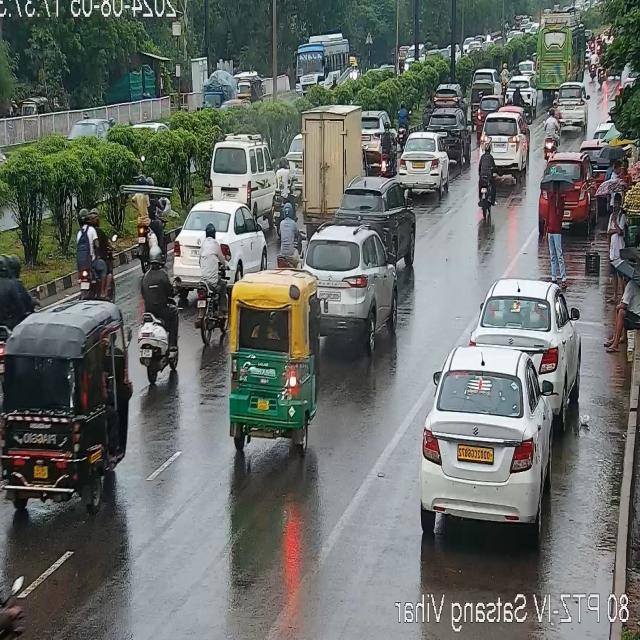2-wheelers: (135, 252, 179, 382), (0, 255, 39, 366), (74, 210, 112, 302), (470, 150, 502, 212), (544, 111, 562, 155)
auto: (0, 301, 127, 511), (226, 267, 316, 439)
bus: (532, 9, 586, 91)
car: (417, 345, 567, 532), (301, 221, 407, 331), (476, 280, 574, 392), (166, 205, 266, 282), (207, 136, 276, 206), (335, 178, 415, 224), (391, 138, 451, 192), (536, 161, 590, 217), (476, 116, 526, 172), (550, 88, 590, 128), (363, 110, 391, 152), (422, 108, 466, 128), (430, 82, 464, 106), (468, 72, 500, 95)
pedestrian: (605, 280, 640, 352), (537, 180, 565, 266), (608, 198, 626, 274)
truck: (287, 104, 365, 228), (274, 208, 302, 268)
